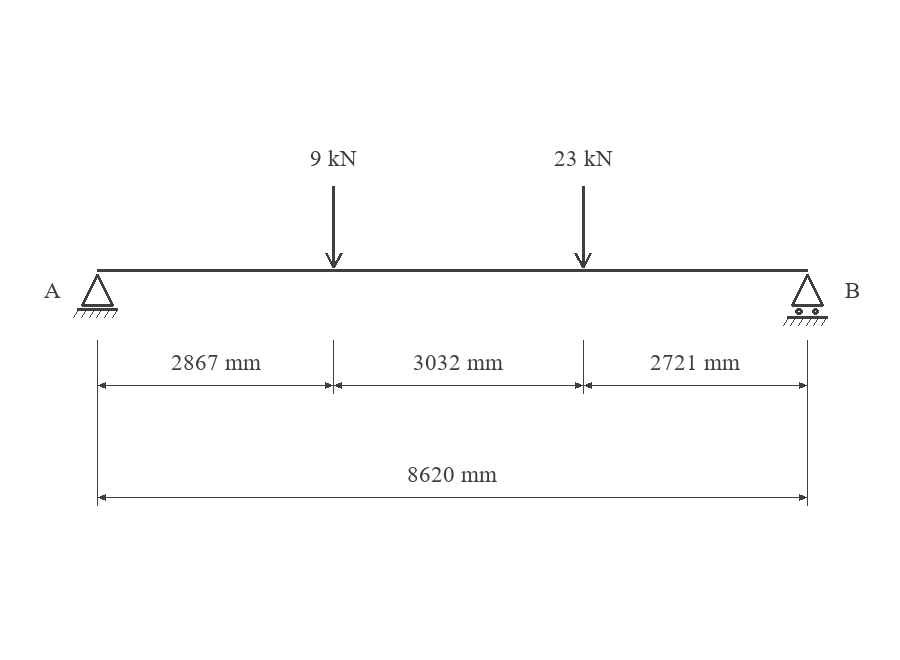pin_support: (73, 274, 118, 318)
point_load: (325, 186, 343, 268), (574, 186, 592, 268)
roller_support: (783, 274, 828, 326)
